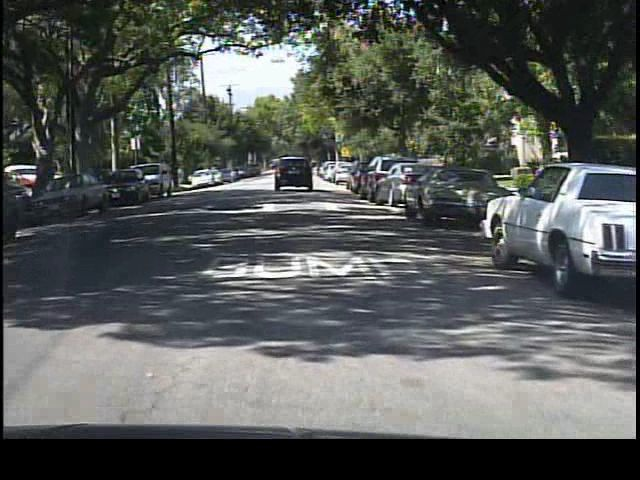person: (176, 164, 188, 189)
